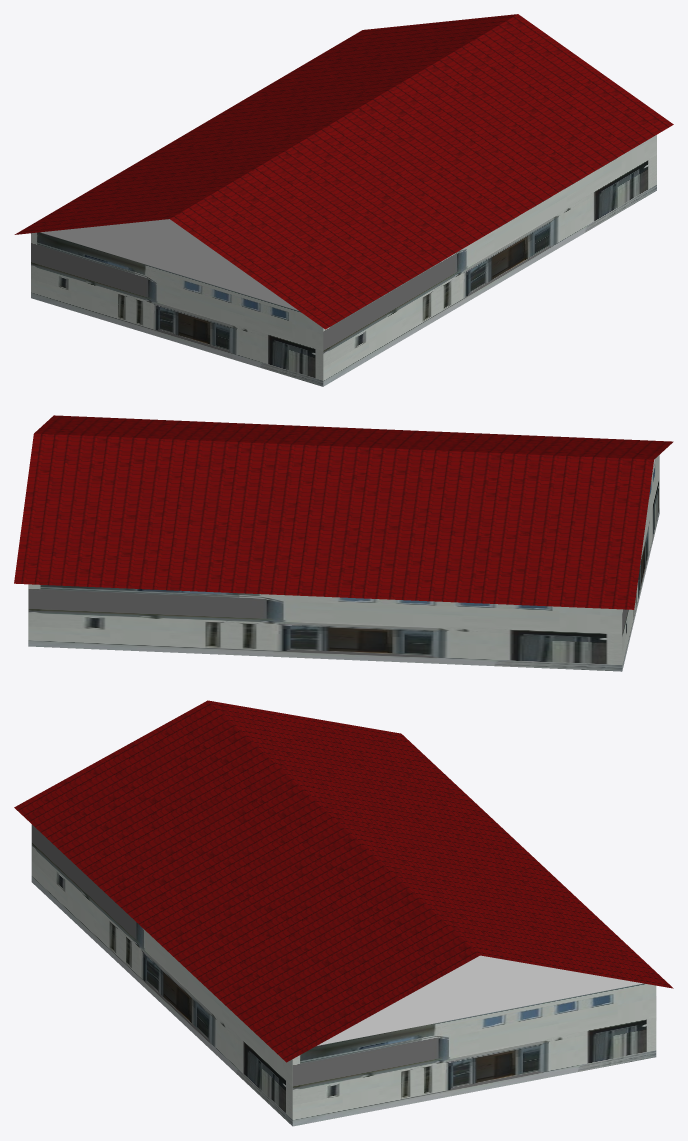
The picture shows the model from 3 angles, top to bottom: view 1: azimuth 30°, elevation 25°; view 2: azimuth 150°, elevation 25°; view 3: azimuth 270°, elevation 25°; orthographic projection. The views are drawn at different scales.
Parts seen in each view (by area): view 1: CityEngineMaterial_17_m, CityEngineMaterial_11_m, CityEngineMaterial_3_m; view 2: CityEngineMaterial_17_m, CityEngineMaterial_11_m; view 3: CityEngineMaterial_17_m, CityEngineMaterial_11_m, CityEngineMaterial_3_m.
Part boxes in pixels (box(x1,y1,x2,y2)): CityEngineMaterial_17_m: box(14, 14, 673, 329); CityEngineMaterial_11_m: box(31, 135, 656, 386); CityEngineMaterial_3_m: box(40, 219, 298, 310); CityEngineMaterial_17_m: box(14, 415, 673, 609); CityEngineMaterial_11_m: box(28, 455, 659, 671); CityEngineMaterial_17_m: box(14, 700, 673, 1062); CityEngineMaterial_11_m: box(31, 824, 656, 1126); CityEngineMaterial_3_m: box(317, 955, 643, 1045).
Bounding box in the file's own units: 55.53 × 11.16 × 47.08.
